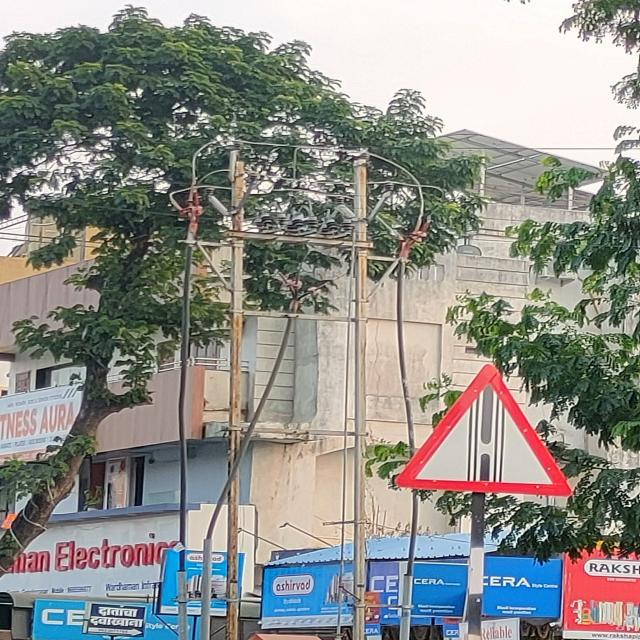gap in median: (393, 361, 576, 500)
